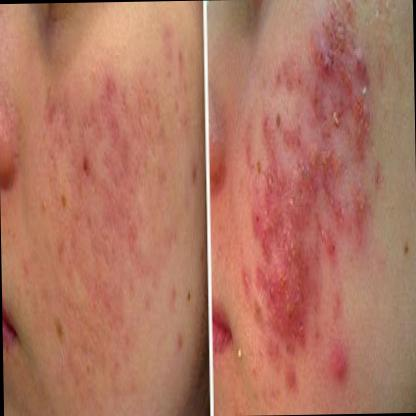Acne: (354, 79, 371, 125), (280, 186, 298, 228), (330, 100, 342, 148), (319, 140, 334, 176), (332, 352, 347, 382), (283, 291, 296, 324), (232, 339, 244, 373), (263, 166, 274, 200)
